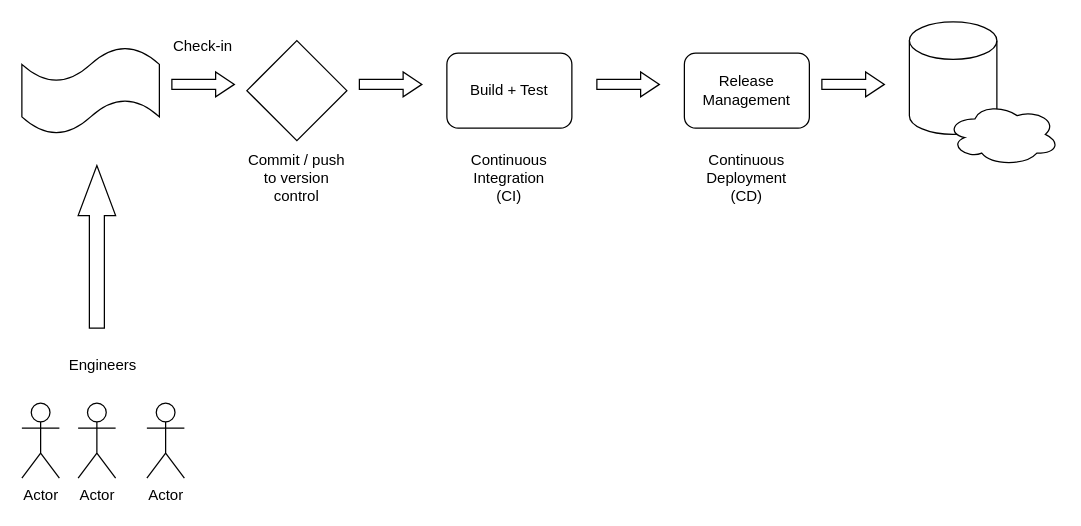
The diagram is 1081 pixels wide and 526 high, and some of its shapes have lost their labels. Here are the shapes that lost their labels. From the top down, the centre of each, then its label:
At (x=90, y=90): "Visual Studio".
At (x=296, y=90): "GIT".
At (x=952, y=77): "Azure SQL Database".
